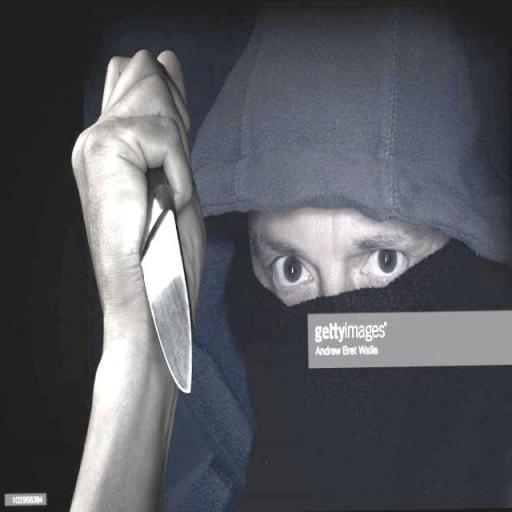knife: (102, 42, 201, 408)
